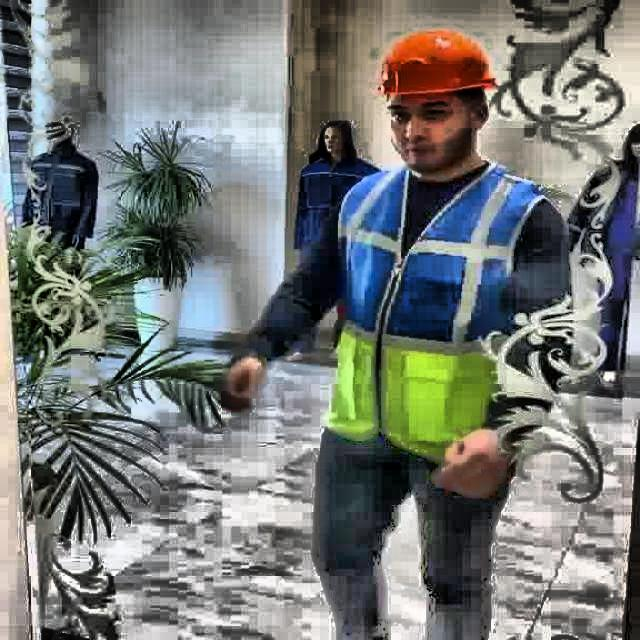safety_helmet: (376, 28, 498, 96)
safety_jacket: (320, 159, 560, 468)
